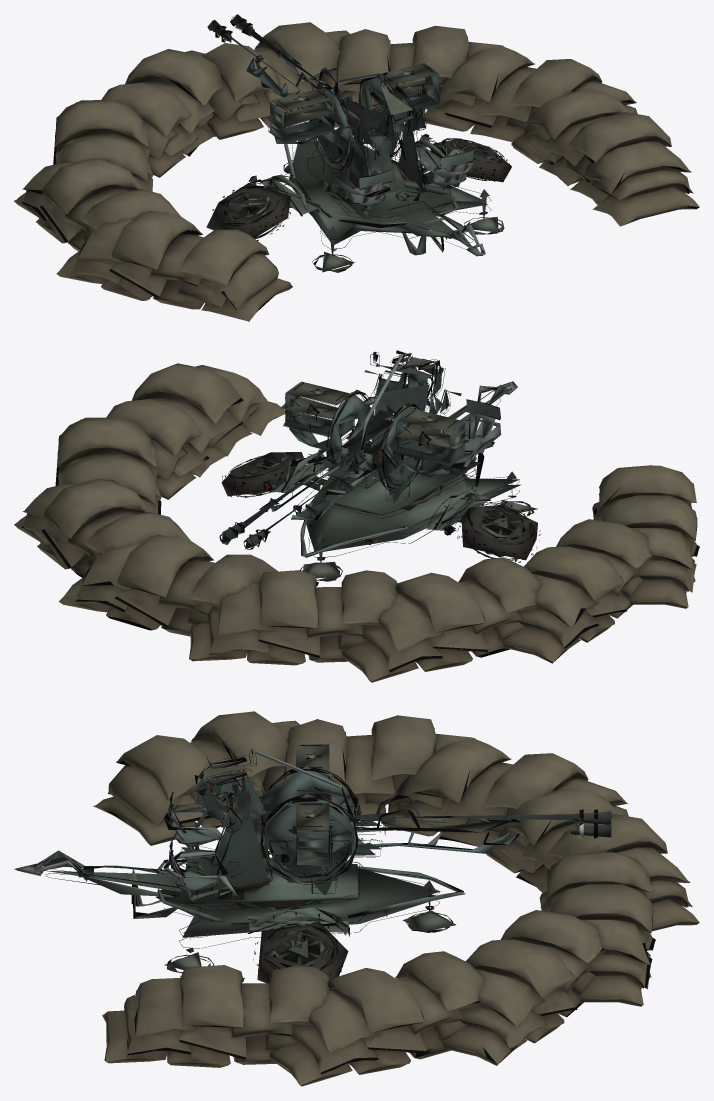
Rendered from agun.glb.
3 renders of one model, top to bottom at view 1: azimuth 30°, elevation 25°; view 2: azimuth 150°, elevation 25°; view 3: azimuth 270°, elevation 25°, orthographic. The views are drawn at different scales.
Visible parts, largest first — view 1: hull, turret, barrel; view 2: hull, turret, barrel; view 3: hull, turret, barrel.
Part boxes in pixels (x1,y1,x2,y2): hull: [14, 22, 699, 321]; turret: [266, 63, 474, 218]; barrel: [207, 14, 362, 127]; hull: [14, 363, 699, 682]; turret: [280, 350, 501, 515]; barrel: [219, 424, 385, 549]; hull: [14, 711, 699, 1086]; turret: [163, 744, 369, 923]; barrel: [347, 787, 611, 870].
Bounding box in the file's own units: 6 × 1.48 × 5.25.
Materials: 1 (1 with a texture image).
